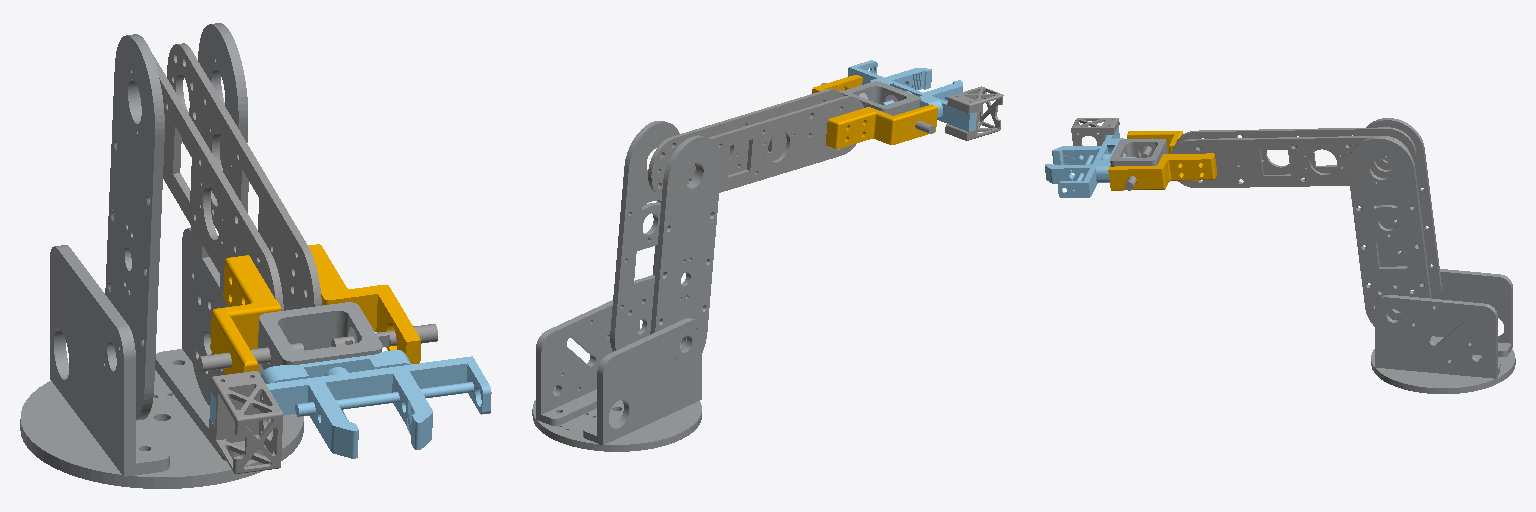
robot.urdf — rover_arm:
<!--URDF generated by ONSHAPE BY PTC INC, 1.223-->
<robot name="rover_arm">
    <link name="cylindrical_1" />
    <link name="part_1">
        <inertial>
            <mass value="0.000177678" />
            <origin xyz="0.000213333 -0.0184097 -0.0422837" rpy="0 -0 0" />
            <inertia ixx="6.94115e-07" ixy="-1.11182e-09" ixz="-1.02261e-09" iyy="1.21572e-07" iyz="-4.60622e-08" izz="6.11992e-07" />
        </inertial>
        <visual>
            <origin xyz="0 -3.55148e-19 -0.03135" rpy="0 -0 0" />
            <geometry>
                <mesh filename="package://rover_arm/meshes_arm/Part_1.stl" scale="1 1 1" />
            </geometry>
            <material name="0.615686_0.811765_0.929412_0.000000_0.000000">
                <color rgba="0.615686 0.811765 0.929412 1" />
            </material>
        </visual>
        <visual>
            <origin xyz="1.20368e-16 -0.00012278 -0.04065" rpy="-1.5708 -1.77636e-15 1.5708" />
            <geometry>
                <mesh filename="package://rover_arm/meshes_arm/Part_1_4.stl" scale="1 1 1" />
            </geometry>
            <material name="0.615686_0.811765_0.929412_0.000000_0.000000">
                <color rgba="0.615686 0.811765 0.929412 1" />
            </material>
        </visual>
        <visual>
            <origin xyz="0.001 -0.000188677 -0.01085" rpy="3.14159 -1.75582e-15 1.5708" />
            <geometry>
                <mesh filename="package://rover_arm/meshes_arm/Part_1_1.stl" scale="1 1 1" />
            </geometry>
            <material name="0.615686_0.811765_0.929412_0.000000_0.000000">
                <color rgba="0.615686 0.811765 0.929412 1" />
            </material>
        </visual>
        <visual>
            <origin xyz="1.66533e-16 -0.0233728 -0.04065" rpy="0 1.5708 1.46194e-15" />
            <geometry>
                <mesh filename="package://rover_arm/meshes_arm/Part_1_2.stl" scale="1 1 1" />
            </geometry>
            <material name="0.615686_0.811765_0.929412_0.000000_0.000000">
                <color rgba="0.615686 0.811765 0.929412 1" />
            </material>
        </visual>
        <visual>
            <origin xyz="-0.000125 -0.106674 -0.07065" rpy="-1.5708 -1.81842e-15 1.08247e-15" />
            <geometry>
                <mesh filename="package://rover_arm/meshes_arm/Skeleton_Enclousre.stl" scale="1 1 1" />
            </geometry>
            <material name="0.647059_0.647059_0.647059_0.000000_0.000000">
                <color rgba="0.647059 0.647059 0.647059 1" />
            </material>
        </visual>
        <visual>
            <origin xyz="-8.48983e-17 0.0346527 -0.05565" rpy="3.14159 1.66533e-15 -3.14159" />
            <geometry>
                <mesh filename="package://rover_arm/meshes_arm/Part_1_5.stl" scale="1 1 1" />
            </geometry>
            <material name="0.615686_0.811765_0.929412_0.000000_0.000000">
                <color rgba="0.615686 0.811765 0.929412 1" />
            </material>
        </visual>
    </link>
    <link name="part_1_3">
        <inertial>
            <mass value="1.1693e-05" />
            <origin xyz="6.75735e-09 9.0413e-08 0.149987" rpy="0 -0 0" />
            <inertia ixx="8.70436e-08" ixy="1.17902e-14" ixz="2.94679e-15" iyy="8.70436e-08" iyz="2.46372e-15" izz="7.73263e-11" />
        </inertial>
        <visual>
            <origin xyz="0 0 0.15" rpy="0 -0 0" />
            <geometry>
                <mesh filename="package://rover_arm/meshes_arm/Part_1_3.stl" scale="1 1 1" />
            </geometry>
            <material name="0.752941_0.752941_0.752941_0.000000_0.000000">
                <color rgba="0.752941 0.752941 0.752941 1" />
            </material>
        </visual>
    </link>
    <link name="part_1_6">
        <inertial>
            <mass value="2.29117e-05" />
            <origin xyz="0.0226007 -0.00589403 6.61444e-06" rpy="0 -0 0" />
            <inertia ixx="1.82917e-09" ixy="-5.64622e-10" ixz="1.83408e-10" iyy="1.21607e-08" iyz="-6.45792e-13" izz="1.12004e-08" />
        </inertial>
        <visual>
            <origin xyz="-0.015 -0.00675 -1.42811e-18" rpy="0 -0 0" />
            <geometry>
                <mesh filename="package://rover_arm/meshes_arm/Part_1_6.stl" scale="1 1 1" />
            </geometry>
            <material name="0.615686_0.811765_0.929412_0.000000_0.000000">
                <color rgba="0.615686 0.811765 0.929412 1" />
            </material>
        </visual>
    </link>
    <link name="part_1_7">
        <inertial>
            <mass value="2.42763" />
            <origin xyz="0.00178874 0.000149728 0.0262898" rpy="0 -0 0" />
            <inertia ixx="0.0109896" ixy="-0.000158821" ixz="-0.000115539" iyy="0.010623" iyz="8.49099e-05" izz="0.0140804" />
        </inertial>
        <visual>
            <origin xyz="-4.97431e-05 -0.000114955 -0.01" rpy="0 0 -0.215651" />
            <geometry>
                <mesh filename="package://rover_arm/meshes_arm/Part_1_7.stl" scale="1 1 1" />
            </geometry>
            <material name="0.639216_0.654902_0.662745_0.000000_0.000000">
                <color rgba="0.639216 0.654902 0.662745 1" />
            </material>
        </visual>
        <visual>
            <origin xyz="-0.0503569 0.0109052 0.06" rpy="7.71445e-18 -1.96229e-18 -1.78645" />
            <geometry>
                <mesh filename="package://rover_arm/meshes_arm/Base_Plate_Wall_Right.stl" scale="1 1 1" />
            </geometry>
            <material name="0.639216_0.654902_0.662745_0.000000_0.000000">
                <color rgba="0.639216 0.654902 0.662745 1" />
            </material>
        </visual>
        <visual>
            <origin xyz="0.0551416 -0.012205 0.06" rpy="4.11347e-18 -5.92317e-18 1.35514" />
            <geometry>
                <mesh filename="package://rover_arm/meshes_arm/Base_Plate_Wall_Left.stl" scale="1 1 1" />
            </geometry>
            <material name="0.639216_0.654902_0.662745_0.000000_0.000000">
                <color rgba="0.639216 0.654902 0.662745 1" />
            </material>
        </visual>
    </link>
    <link name="right_elbow_truss">
        <inertial>
            <mass value="0.568943" />
            <origin xyz="0.0283687 0.197732 -7.20103e-06" rpy="0 -0 0" />
            <inertia ixx="0.00864162" ixy="-0.000835354" ixz="1.10568e-06" iyy="0.000609768" iyz="4.905e-06" izz="0.00871133" />
        </inertial>
        <visual>
            <origin xyz="-0.006 0.15 5.8612e-18" rpy="0 -0 0" />
            <geometry>
                <mesh filename="package://rover_arm/meshes_arm/Right_Elbow_Truss.stl" scale="1 1 1" />
            </geometry>
            <material name="0.647059_0.647059_0.647059_0.000000_0.000000">
                <color rgba="0.647059 0.647059 0.647059 1" />
            </material>
        </visual>
        <visual>
            <origin xyz="0.031 0.15 -3.66374e-15" rpy="5.05151e-15 -7.04302e-16 2.42786e-15" />
            <geometry>
                <mesh filename="package://rover_arm/meshes_arm/Left_Elbow_Truss.stl" scale="1 1 1" />
            </geometry>
            <material name="0.647059_0.647059_0.647059_0.000000_0.000000">
                <color rgba="0.647059 0.647059 0.647059 1" />
            </material>
        </visual>
        <visual>
            <origin xyz="0.0095 0.385 -2.36687e-15" rpy="-4.06596e-15 4.90314e-15 -1.5708" />
            <geometry>
                <mesh filename="package://rover_arm/meshes_arm/L_Shape.stl" scale="1 1 1" />
            </geometry>
            <material name="0.980392_0.713725_0.003922_0.000000_0.000000">
                <color rgba="0.980392 0.713726 0.00392157 1" />
            </material>
        </visual>
    </link>
    <link name="root">
        <inertial>
            <mass value="0.130745" />
            <origin xyz="-0.154694 -0.397331 0.312444" rpy="0 -0 0" />
            <inertia ixx="0.000185289" ixy="-9.96076e-05" ixz="-1.32656e-05" iyy="9.82653e-05" iyz="-2.03263e-05" izz="0.000248959" />
        </inertial>
        <visual>
            <origin xyz="-0.114919 -0.460227 0.306341" rpy="1.87949e-15 -0.117352 1.35514" />
            <geometry>
                <mesh filename="package://rover_arm/meshes_arm/L_Shape.stl" scale="1 1 1" />
            </geometry>
            <material name="0.980392_0.713725_0.003922_0.000000_0.000000">
                <color rgba="0.980392 0.713726 0.00392157 1" />
            </material>
        </visual>
    </link>
    <link name="truss_right">
        <inertial>
            <mass value="0.707215" />
            <origin xyz="0.0133042 -0.113106 0.0362895" rpy="0 -0 0" />
            <inertia ixx="0.00669019" ixy="0.000618387" ixz="-1.43776e-06" iyy="0.00153968" iyz="1.87283e-05" izz="0.00659168" />
        </inertial>
        <visual>
            <origin xyz="2.0035e-17 2.36199e-18 0" rpy="0 0 -1.45344" />
            <geometry>
                <mesh filename="package://rover_arm/meshes_arm/Truss_Right.stl" scale="1 1 1" />
            </geometry>
            <material name="0.639216_0.654902_0.662745_0.000000_0.000000">
                <color rgba="0.639216 0.654902 0.662745 1" />
            </material>
        </visual>
        <visual>
            <origin xyz="-5.45397e-15 -1.51268e-15 0.06" rpy="2.30236e-14 1.44102e-15 -1.45344" />
            <geometry>
                <mesh filename="package://rover_arm/meshes_arm/Truss_Left.stl" scale="1 1 1" />
            </geometry>
            <material name="0.639216_0.654902_0.662745_0.000000_0.000000">
                <color rgba="0.639216 0.654902 0.662745 1" />
            </material>
        </visual>
    </link>
    <link name="wrist_differential_stepped_shaft">
        <inertial>
            <mass value="0.178255" />
            <origin xyz="-0.00408608 -0.0711354 1.5458e-16" rpy="0 -0 0" />
            <inertia ixx="0.00031056" ixy="-6.92721e-07" ixz="0" iyy="0.000108355" iyz="0" izz="0.000387867" />
        </inertial>
        <visual>
            <origin xyz="0 -0.0721 -7.9602e-19" rpy="0 -0 0" />
            <geometry>
                <mesh filename="package://rover_arm/meshes_arm/Wrist_Differential_Stepped_Shaft.stl" scale="1 1 1" />
            </geometry>
            <material name="0.647059_0.647059_0.647059_0.000000_0.000000">
                <color rgba="0.647059 0.647059 0.647059 1" />
            </material>
        </visual>
        <visual>
            <origin xyz="0 -0.0721 -5.55112e-17" rpy="9.71182e-19 6.05872e-36 -1.2477e-17" />
            <geometry>
                <mesh filename="package://rover_arm/meshes_arm/Bearing_1.stl" scale="1 1 1" />
            </geometry>
            <material name="0.917647_0.917647_0.917647_0.000000_0.000000">
                <color rgba="0.917647 0.917647 0.917647 1" />
            </material>
        </visual>
        <visual>
            <origin xyz="0.000150424 -0.0721 4.44089e-16" rpy="0 -1.5708 3.41448e-14" />
            <geometry>
                <mesh filename="package://rover_arm/meshes_arm/Shaft.stl" scale="1 1 1" />
            </geometry>
            <material name="0.647059_0.647059_0.647059_0.000000_0.000000">
                <color rgba="0.647059 0.647059 0.647059 1" />
            </material>
        </visual>
        <visual>
            <origin xyz="-5.55112e-17 -0.0721 -1.11022e-16" rpy="1.94236e-18 2.42349e-35 -2.4954e-17" />
            <geometry>
                <mesh filename="package://rover_arm/meshes_arm/Bearing.stl" scale="1 1 1" />
            </geometry>
            <material name="0.917647_0.917647_0.917647_0.000000_0.000000">
                <color rgba="0.917647 0.917647 0.917647 1" />
            </material>
        </visual>
        <visual>
            <origin xyz="-1.11022e-16 -0.0721 -1.66533e-16" rpy="2.91354e-18 5.45284e-35 -3.7431e-17" />
            <geometry>
                <mesh filename="package://rover_arm/meshes_arm/Gear_Housing.stl" scale="1 1 1" />
            </geometry>
            <material name="0.639216_0.654902_0.662745_0.000000_0.000000">
                <color rgba="0.639216 0.654902 0.662745 1" />
            </material>
        </visual>
    </link>
    <joint name="cylindrical_1" type="prismatic">
        <origin xyz="0.015 -0.201845 -1.11022e-16" rpy="-1.5708 -1.10706 -7.69451e-15" />
        <axis xyz="-0 -0 -1" />
        <parent link="part_1_6" />
        <child link="cylindrical_1" />
        <limit effort="1" velocity="1" lower="-10000" upper="10000" />
    </joint>
    <joint name="cylindrical_1_1" type="continuous">
        <origin xyz="0 0 0" rpy="0 -0 0" />
        <axis xyz="-0 -0 -1" />
        <parent link="cylindrical_1" />
        <child link="part_1_3" />
    </joint>
    <joint name="revolute_1" type="continuous">
        <origin xyz="-0.0287 -0.0721 -2.22045e-16" rpy="0 1.5708 -3.29769e-10" />
        <axis xyz="0 0 -1" />
        <parent link="wrist_differential_stepped_shaft" />
        <child link="part_1" />
    </joint>
    <joint name="revolute_1_1" type="continuous">
        <origin xyz="0.0641663 0.0523593 0.09" rpy="-1.5708 6.10623e-16 1.35514" />
        <axis xyz="0 0 -1" />
        <parent link="part_1_7" />
        <child link="truss_right" />
    </joint>
    <joint name="revolute_2" type="continuous">
        <origin xyz="0.026929 -0.228418 0.008" rpy="0 -1.5708 -1.45344" />
        <axis xyz="1 0 0" />
        <parent link="truss_right" />
        <child link="right_elbow_truss" />
    </joint>
    <joint name="revolute_2_1" type="continuous">
        <origin xyz="0.0917 0.385 -2.7045e-15" rpy="-4.36296e-15 -3.32955e-14 -1.5708" />
        <axis xyz="0 1 0" />
        <parent link="right_elbow_truss" />
        <child link="wrist_differential_stepped_shaft" />
    </joint>
    <joint name="revolute_3" type="continuous">
        <origin xyz="1.35525e-20 -1.35525e-20 0.033" rpy="-1.44551e-18 3.16651e-19 -3.14159" />
        <axis xyz="0 0 1" />
        <parent link="root" />
        <child link="part_1_7" />
    </joint>
    <joint name="slider_2" type="prismatic">
        <origin xyz="7.89299e-17 0.0385944 -0.05565" rpy="0 1.5708 -3.14159" />
        <axis xyz="0 1 1.73472e-16" />
        <parent link="part_1" />
        <child link="part_1_6" />
        <limit effort="1" velocity="1" lower="-0.0357829" upper="0.0462171" />
    </joint>
</robot>

--- Facts derived from the render (not from the file) ---
The picture shows the robot from 3 angles, left to right: view 1: azimuth 30°, elevation 25°; view 2: azimuth 150°, elevation 25°; view 3: azimuth 270°, elevation 25°; orthographic projection.
Robot: rover_arm — 9 links, 8 joints (6 continuous, 2 prismatic); root link root; default pose: every joint at zero.
Links seen in each view (by area): view 1: part_1_7, truss_right, right_elbow_truss, part_1, wrist_differential_stepped_shaft, root, part_1_6; view 2: part_1_7, truss_right, right_elbow_truss, part_1, root, wrist_differential_stepped_shaft, part_1_6; view 3: part_1_7, truss_right, right_elbow_truss, part_1, wrist_differential_stepped_shaft, part_1_6, root.
Link boxes in pixels (x1,y1,x2,y2): part_1_7: (20, 228, 303, 488); truss_right: (105, 23, 247, 420); right_elbow_truss: (138, 43, 420, 363); part_1: (208, 350, 491, 473); wrist_differential_stepped_shaft: (198, 302, 437, 371); root: (210, 255, 281, 374); part_1_6: (392, 371, 432, 449); part_1_7: (532, 300, 701, 451); truss_right: (610, 121, 721, 352); right_elbow_truss: (648, 75, 863, 195); part_1: (848, 60, 1003, 140); root: (826, 104, 937, 148); wrist_differential_stepped_shaft: (821, 81, 934, 133); part_1_6: (885, 68, 931, 89); part_1_7: (1371, 269, 1515, 393); truss_right: (1348, 118, 1441, 326); right_elbow_truss: (1108, 127, 1415, 190); part_1: (1052, 118, 1136, 197); wrist_differential_stepped_shaft: (1110, 138, 1167, 190); part_1_6: (1045, 164, 1091, 183); root: (1127, 131, 1182, 153).
Bounding box of the posed robot: 0.3657 × 0.7177 × 0.3804 m (x, y, z).
21 mesh visuals loaded from 21 distinct referenced files (20 binary STL); not drawn: 1 (reference not matched to a file when rendering).
